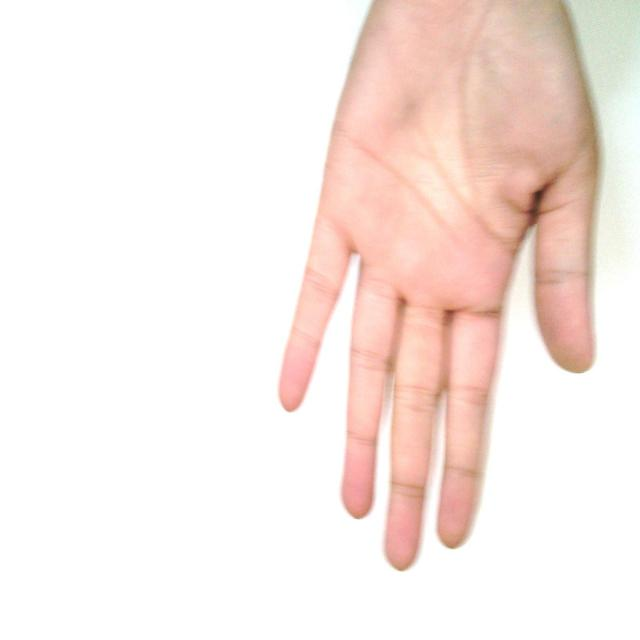others: (260, 0, 599, 575)
